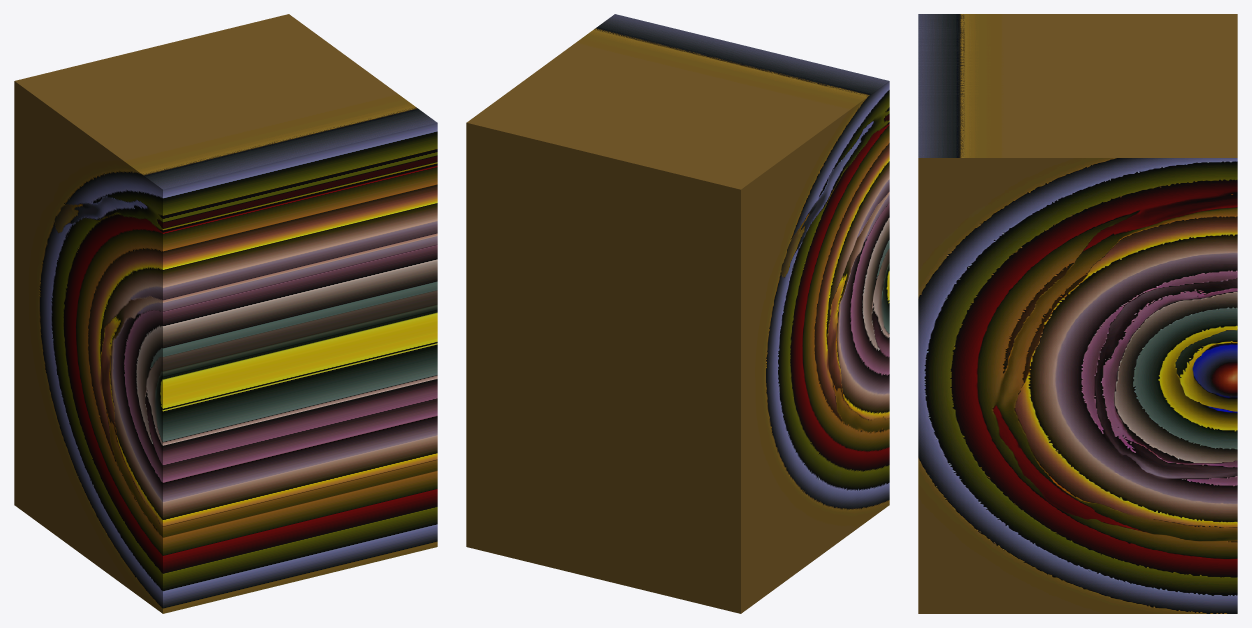
The model's file is Stuff.glb.
The picture shows the model from 3 angles, left to right: view 1: azimuth 30°, elevation 25°; view 2: azimuth 150°, elevation 25°; view 3: azimuth 270°, elevation 25°; orthographic projection. The views are drawn at different scales.
Visible parts, largest first — view 1: Stuff; view 2: Stuff; view 3: Stuff.
Part boxes in pixels (x1,y1,x2,y2): Stuff: (14,14,437,613); Stuff: (466,14,889,613); Stuff: (918,14,1237,613).
Size of the model in its own units: 6976 by 10304 by 6540.
1 material, 1 textured.
